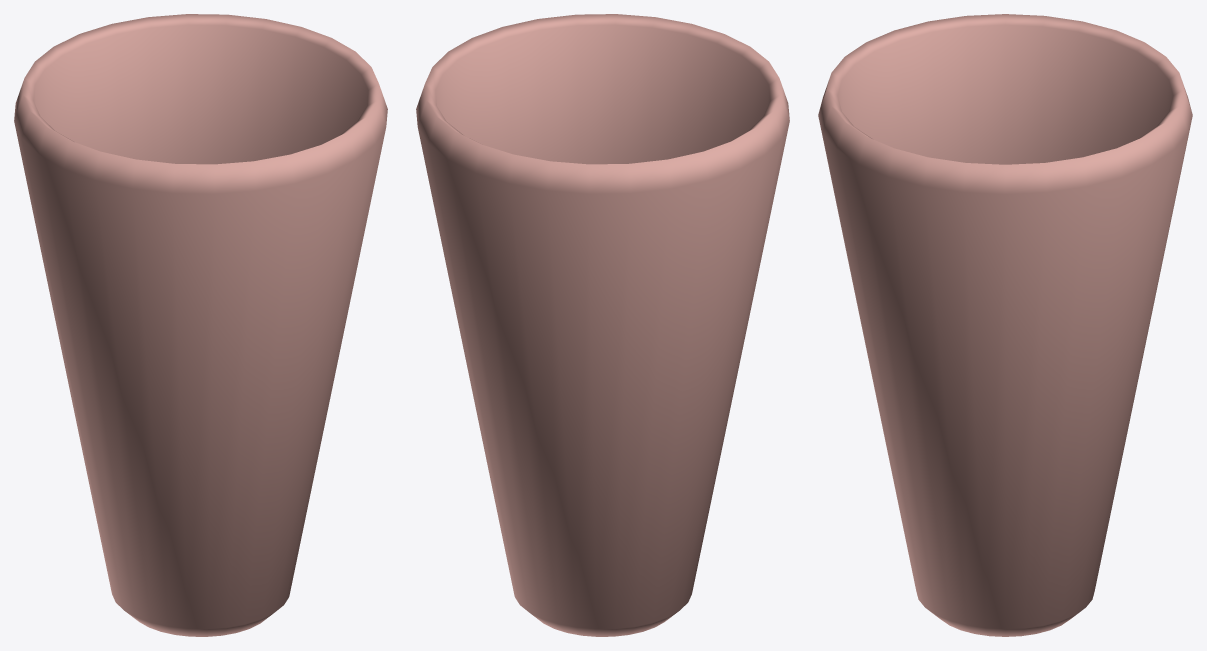
Rendered from i_vase_4_0.glb.
3 views of the same model, side by side, from view 1: azimuth 30°, elevation 25°; view 2: azimuth 150°, elevation 25°; view 3: azimuth 270°, elevation 25° (orthographic).
Visible parts, largest first — view 1: o; view 2: o; view 3: o.
Part boxes in pixels (<box>): o: <box>14,14,387,636</box>; o: <box>416,14,789,636</box>; o: <box>818,14,1192,636</box>.
Bounding box in the file's own units: 0.21 × 0.32 × 0.21.
